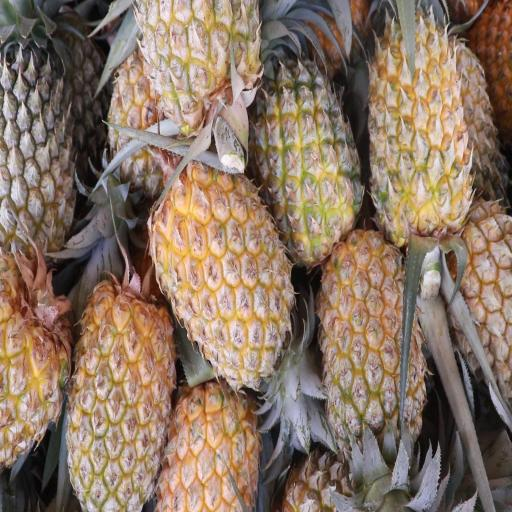------------------------------: (246, 48, 366, 272), (136, 2, 270, 174)
Pineapple - v8 v1: (148, 144, 298, 398), (316, 222, 424, 509), (67, 260, 178, 512), (367, 5, 474, 266), (0, 244, 78, 473), (158, 355, 260, 512), (447, 185, 512, 405)
